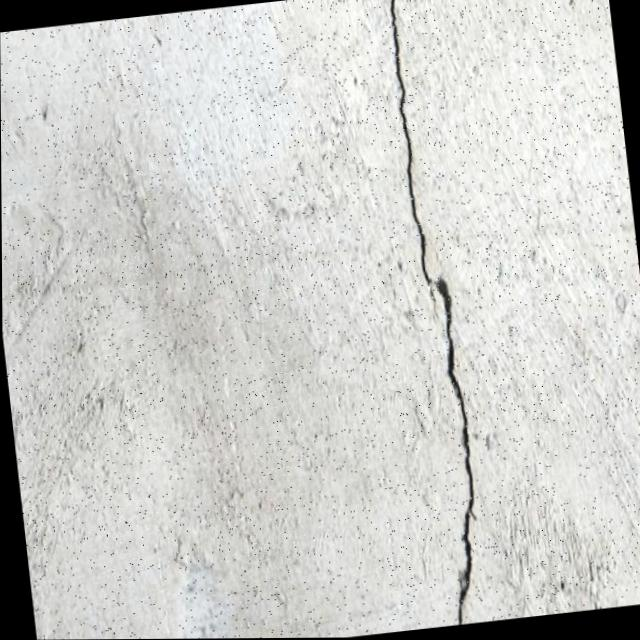Crack: (357, 0, 508, 629)
